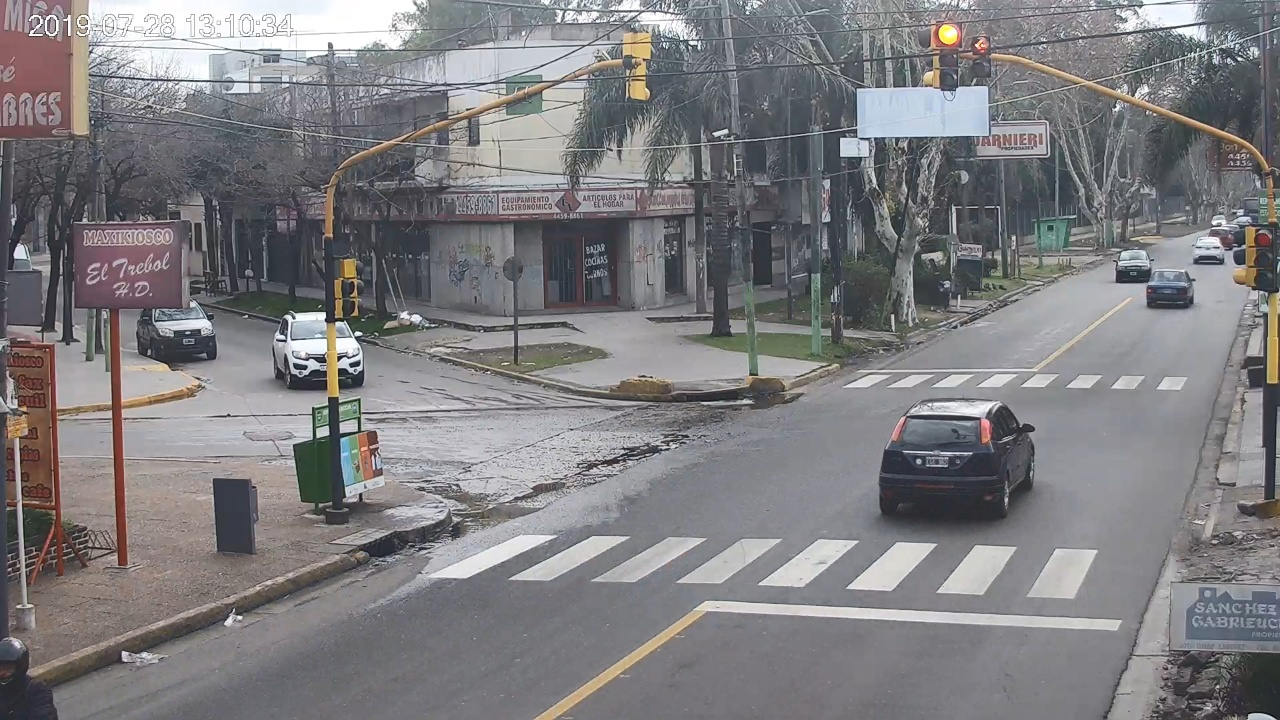car: (879, 399, 1035, 518)
traffic light: (940, 22, 959, 90), (1255, 231, 1274, 288)
